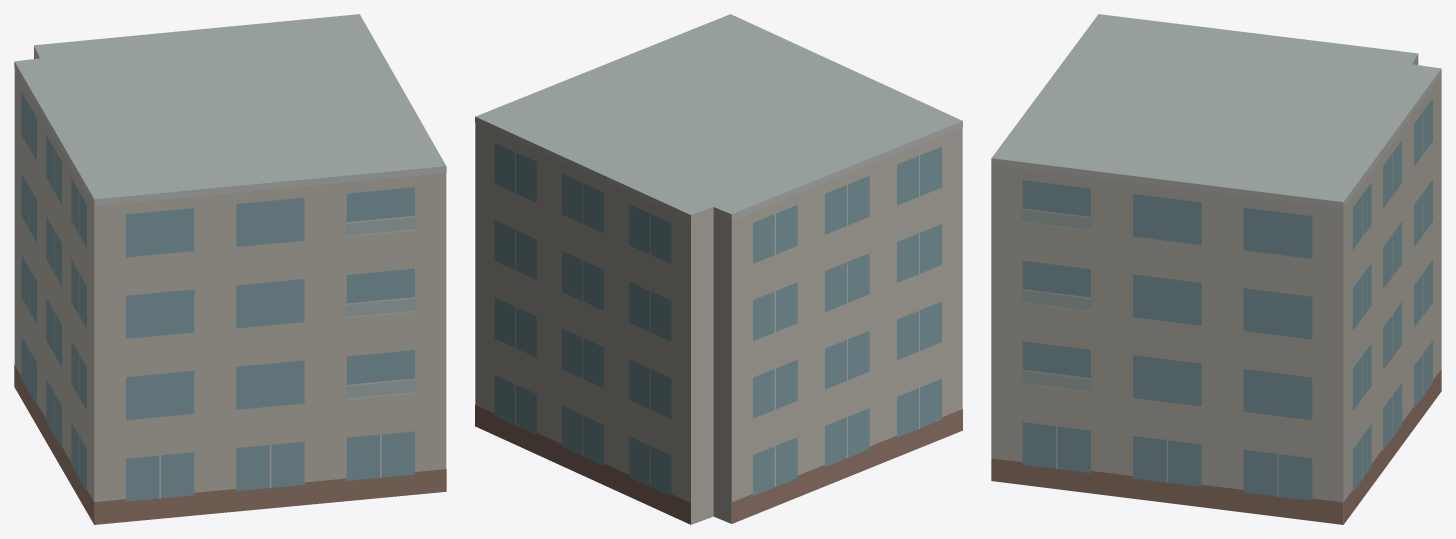
The model's file is survey-upis-32869367.glb.
3 renders of one model, left to right at view 1: azimuth 30°, elevation 25°; view 2: azimuth 150°, elevation 25°; view 3: azimuth 270°, elevation 25°, orthographic. The views are drawn at different scales.
Parts seen in each view (by area): view 1: survey-upis-32869367.tmp; view 2: survey-upis-32869367.tmp; view 3: survey-upis-32869367.tmp.
Part boxes in pixels (x1,y1,x2,y2): survey-upis-32869367.tmp: (14, 14, 446, 524); survey-upis-32869367.tmp: (475, 14, 962, 524); survey-upis-32869367.tmp: (991, 14, 1441, 524).
Size of the model in its own units: 14.64 by 11.7 by 14.8.
